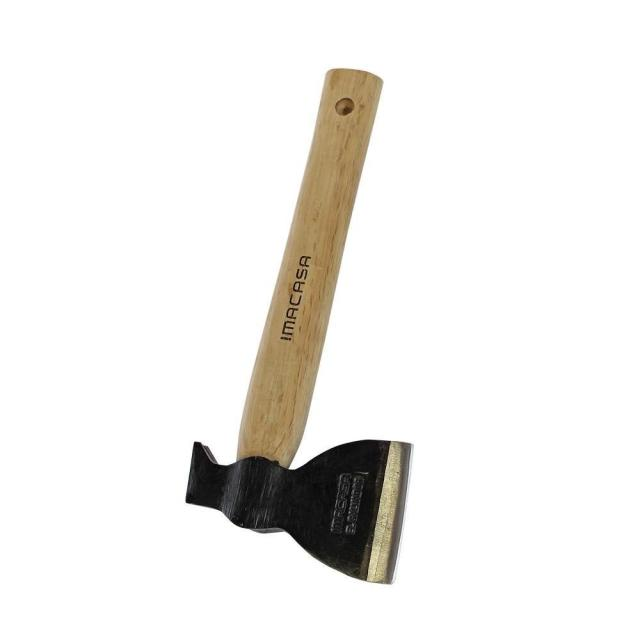Kapak: (224, 56, 426, 590)
